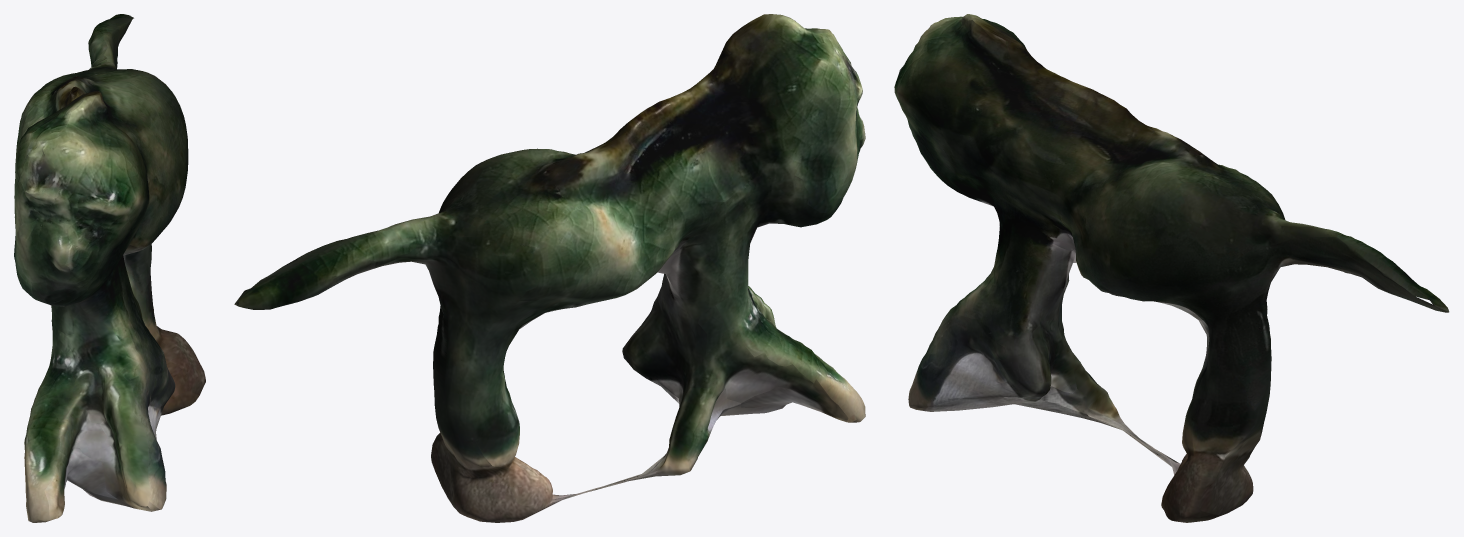
3 renders of one model, left to right at view 1: azimuth 30°, elevation 25°; view 2: azimuth 150°, elevation 25°; view 3: azimuth 270°, elevation 25°, orthographic. The views are drawn at different scales.
Bounding box in the file's own units: 0.3031 × 0.3605 × 0.4273.
1 material, 1 textured.
